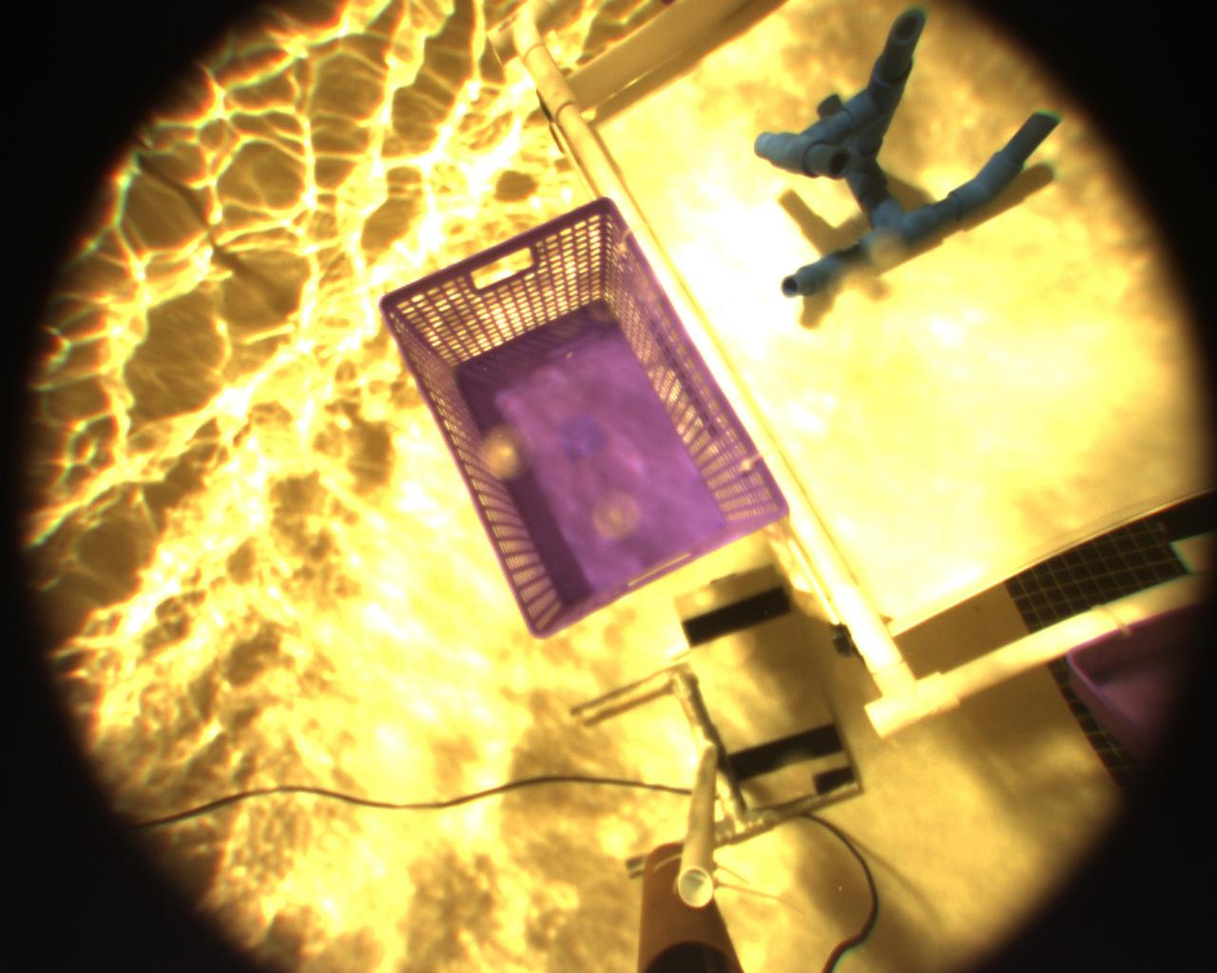coral: (746, 10, 1049, 283)
coral-box-top: (546, 0, 1217, 637)
